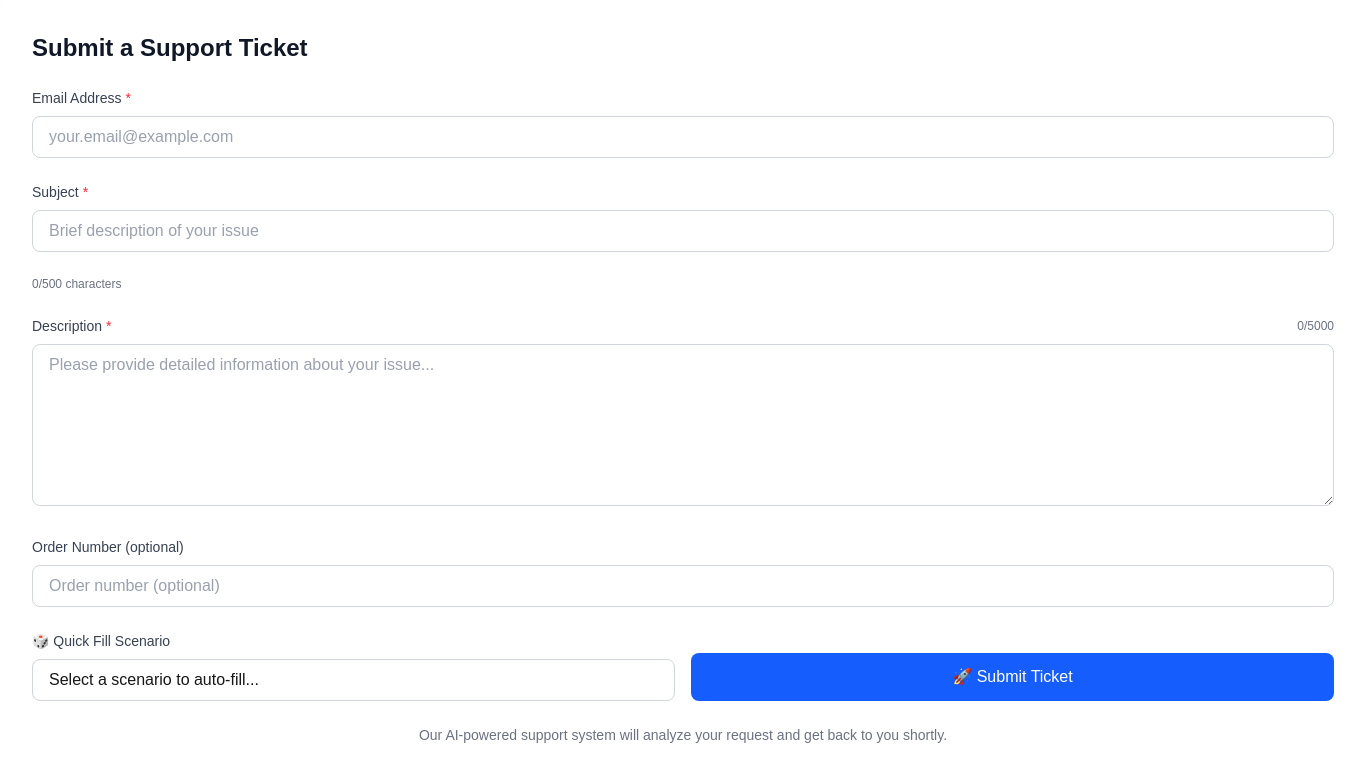
Test case: TicketForm - WCAG 2.1 AA Compliance (TIER 1) › Quick Fill Feature › should auto-fill form when scenario selected
The width and height of the screenshot is (1366, 768).
# Select a scenario (using real scenario ID from ticket-scenarios.ts)
Select "😊 Обычный вопрос - о продукте" in the dropdown labelled "🎲 Quick Fill Scenario": coordinates (354, 680) [32,659,675,701]
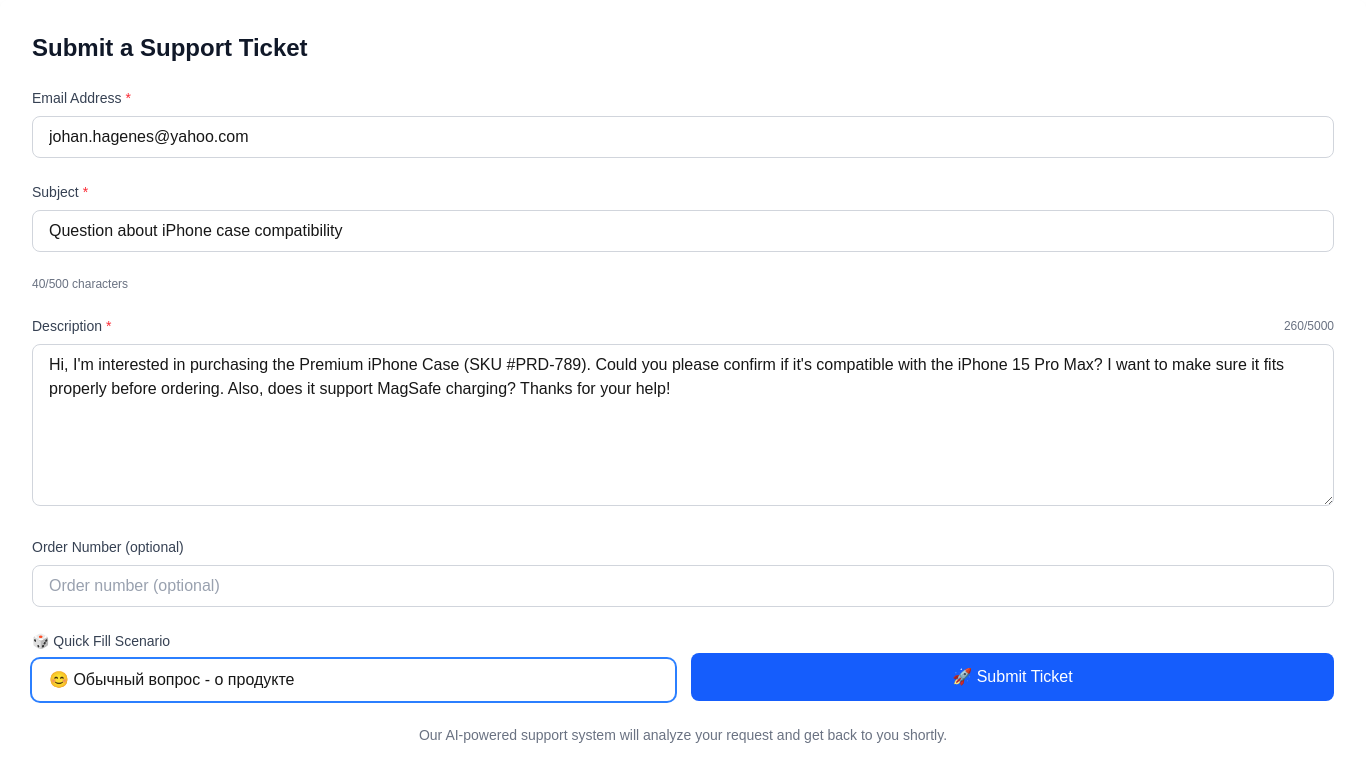
Check: the field labelled "Email Address*" holds "johan.hagenes@yahoo.com", box [32,116,1334,158]
